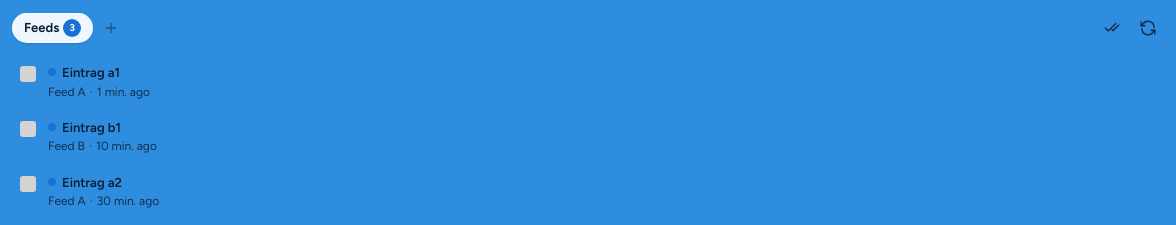
RSS-Widget › markiert alle als gelesen und blendet Gelesenes auf Wunsch aus
This screenshot has width=1176, height=225.
Click the button named "Mark all as read": (1112, 28) [1096, 12, 1128, 44]
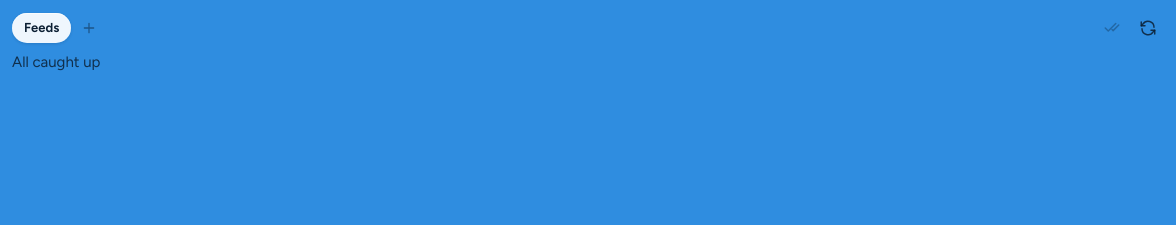
Now the button named "Mark all as read" is disabled, box [1096, 12, 1128, 44]
Now the text "All caught up" is shown, box [12, 52, 100, 74]
